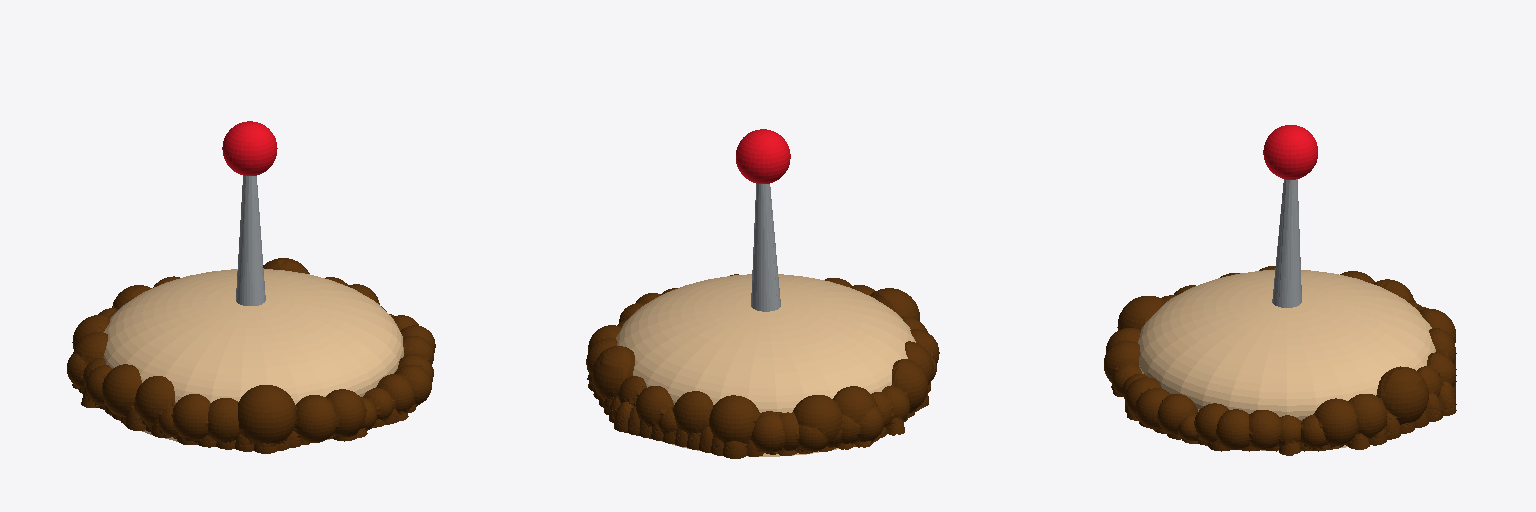
Rendered from potato_small.obj.
The picture shows the model from 3 angles: view 1: azimuth 30°, elevation 25°; view 2: azimuth 150°, elevation 25°; view 3: azimuth 270°, elevation 25°; orthographic projection.
Visible parts, largest first — view 1: potato_mine; view 2: potato_mine; view 3: potato_mine.
Part boxes in pixels (x1,y1,x2,y2): potato_mine: (67,121,435,453); potato_mine: (586,129,939,458); potato_mine: (1104,125,1456,455).
Bounding box in the file's own units: 51.8 × 41.04 × 51.16.